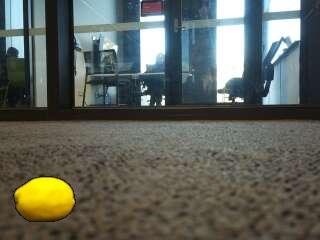lemon: (17, 178, 75, 222)
